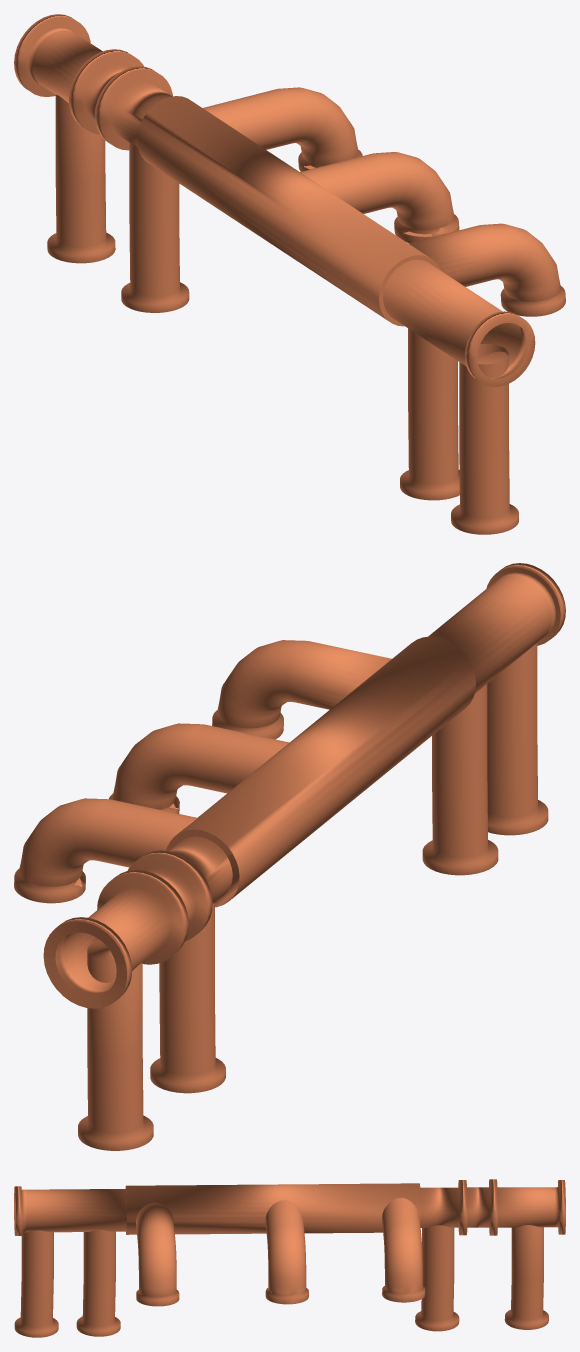
File: rury .fbx
3 views of the same model, one above another, from view 1: azimuth 30°, elevation 25°; view 2: azimuth 150°, elevation 25°; view 3: azimuth 270°, elevation 25° (orthographic). The views are drawn at different scales.
Visible parts, largest first — view 1: Cylinder.002; view 2: Cylinder.002; view 3: Cylinder.002.
Part boxes in pixels (<box>): Cylinder.002: <box>14,14,565,534</box>; Cylinder.002: <box>14,563,565,1150</box>; Cylinder.002: <box>14,1179,565,1337</box>.
Bounding box in the file's own units: 4850 × 4312 × 15366.
